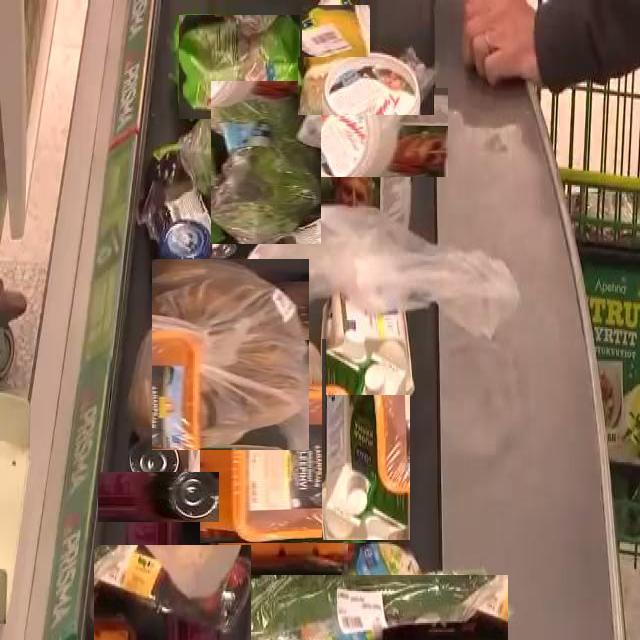beverage: (321, 338, 410, 540)
food-box: (202, 386, 363, 547), (313, 72, 433, 193), (178, 14, 300, 119), (326, 279, 415, 395), (115, 454, 201, 540), (157, 212, 215, 334)
fruit: (94, 544, 252, 640), (304, 2, 368, 66)
vegetable: (143, 267, 318, 442), (215, 574, 508, 640), (198, 94, 335, 230), (298, 57, 434, 115)
